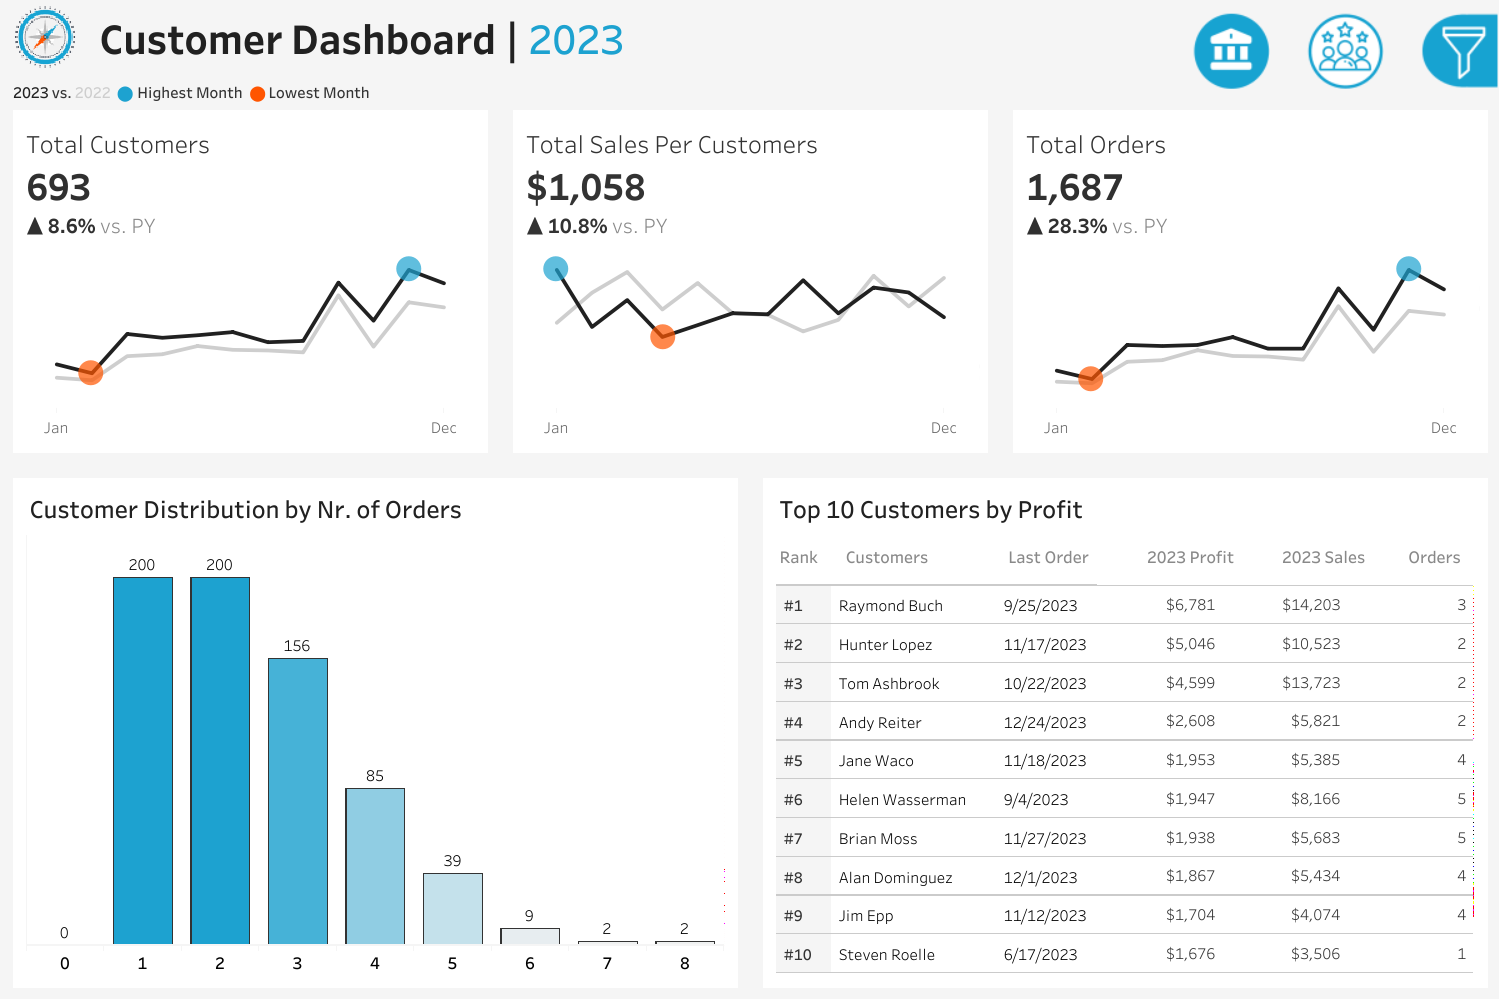

Layout of this report page (visuals, bound fields, positions):
{"tool":"tableau","page":{"name":"Customer Dashboard","canvas":[1200,800],"ordinal":0},"visuals":[{"type":"image","param":"Image/Icon - Logo.png","box":[0,0,73,59]},{"type":"text","box":[73,0,820,59]},{"type":"dashboard-object","box":[940,6,91,70]},{"type":"dashboard-object","box":[1031,6,91,70]},{"type":"blank","box":[952,10,237,86]},{"type":"worksheet","title":"Legend KPI","mark":"Automatic","box":[0,59,1200,29]},{"type":"worksheet","title":"KPI Customers","mark":"Automatic","rows":["Min/Max Quantity (copy)_3221481164588691468"],"cols":["Order Date"],"box":[0,88,400,284]},{"type":"worksheet","title":"KPI Sales Per Customers","mark":"Automatic","rows":["Min/Max Quantity (copy)_3221481164537155591"],"cols":["Order Date"],"box":[400,88,400,284]},{"type":"worksheet","title":"KPI Orders","mark":"Automatic","rows":["Min/Max Sales (copy)_3221481164601258003"],"cols":["Order Date"],"box":[800,88,400,284]},{"type":"text","box":[952,96,237,37]},{"type":"parameter","param":"[Parameters].[Parameter 1]","box":[952,133,237,55]},{"type":"text","box":[952,188,237,32]},{"type":"filter","title":"KPI Customers","param":"[federated.1kpxa041aiai2y1cl4pui1t4eju9].[none:Category:nk]","box":[952,220,237,57]},{"type":"filter","title":"KPI Customers","param":"[federated.1kpxa041aiai2y1cl4pui1t4eju9].[none:Sub-Category:nk]","box":[952,277,237,57]},{"type":"blank","box":[952,334,237,60]},{"type":"text","box":[17,389,566,40]},{"type":"text","box":[617,389,566,40]},{"type":"text","box":[952,394,237,32]},{"type":"filter","title":"KPI Customers","param":"[federated.1kpxa041aiai2y1cl4pui1t4eju9].[none:Region:nk]","box":[952,426,237,57]},{"type":"worksheet","title":"Customer Distribution","mark":"Bar","rows":["CY Sales (copy)_3221481164532666369"],"cols":["Calculation_998110323739992064"],"box":[17,429,566,354]},{"type":"text","box":[617,429,53,40]},{"type":"text","box":[670,429,130,40]},{"type":"text","box":[800,429,111,40]},{"type":"text","box":[911,429,108,40]},{"type":"text","box":[1019,429,101,40]},{"type":"text","box":[1120,429,63,40]},{"type":"worksheet","title":"Top Customers","mark":"Automatic","rows":["Calculation_782500491678904334","Customer Name","Order Date"],"box":[617,469,566,314]},{"type":"filter","title":"KPI Customers","param":"[federated.1kpxa041aiai2y1cl4pui1t4eju9].[none:State:nk]","box":[952,483,237,57]},{"type":"filter","title":"KPI Customers","param":"[federated.1kpxa041aiai2y1cl4pui1t4eju9].[none:City:nk]","box":[952,540,237,57]}]}

Visuals, with their boxes in screenshot pixels (x1, y1, x2, y2), scaled from the page's 1200x800 canvas onto the 1499x999 screenshot:
image: [0,0,91,74]
text: [91,0,1116,74]
dashboard-object: [1174,7,1288,95]
dashboard-object: [1288,7,1402,95]
blank: [1189,12,1485,120]
"Legend KPI" worksheet: [0,74,1498,110]
"KPI Customers" worksheet: [0,110,500,465]
"KPI Sales Per Customers" worksheet: [500,110,999,465]
"KPI Orders" worksheet: [999,110,1498,465]
text: [1189,120,1485,166]
parameter: [1189,166,1485,235]
text: [1189,235,1485,275]
"KPI Customers" filter: [1189,275,1485,346]
"KPI Customers" filter: [1189,346,1485,417]
blank: [1189,417,1485,492]
text: [21,486,728,536]
text: [771,486,1478,536]
text: [1189,492,1485,532]
"KPI Customers" filter: [1189,532,1485,603]
"Customer Distribution" worksheet (Bar marks): [21,536,728,978]
text: [771,536,837,586]
text: [837,536,999,586]
text: [999,536,1138,586]
text: [1138,536,1273,586]
text: [1273,536,1399,586]
text: [1399,536,1478,586]
"Top Customers" worksheet: [771,586,1478,978]
"KPI Customers" filter: [1189,603,1485,674]
"KPI Customers" filter: [1189,674,1485,746]
